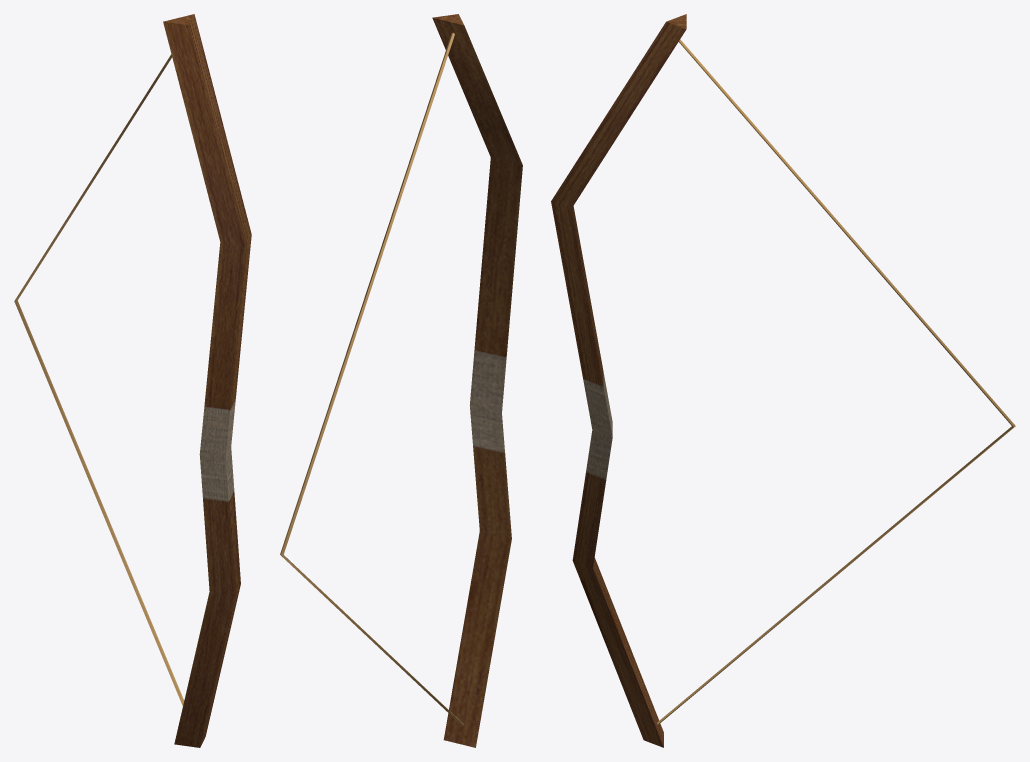
Rendered from bow.fbx.
3 views of the same model, side by side, from view 1: azimuth 30°, elevation 25°; view 2: azimuth 150°, elevation 25°; view 3: azimuth 270°, elevation 25° (orthographic). The views are drawn at different scales.
Visible parts, largest first — view 1: pCube4; view 2: pCube4; view 3: pCube4.
Boxes of the visible parts, bbox=[...] form: pCube4: bbox=[14, 14, 251, 747]; pCube4: bbox=[280, 14, 522, 747]; pCube4: bbox=[551, 14, 1015, 747].
Bounding box in the file's own units: 0.5928 × 12.87 × 7.55.
